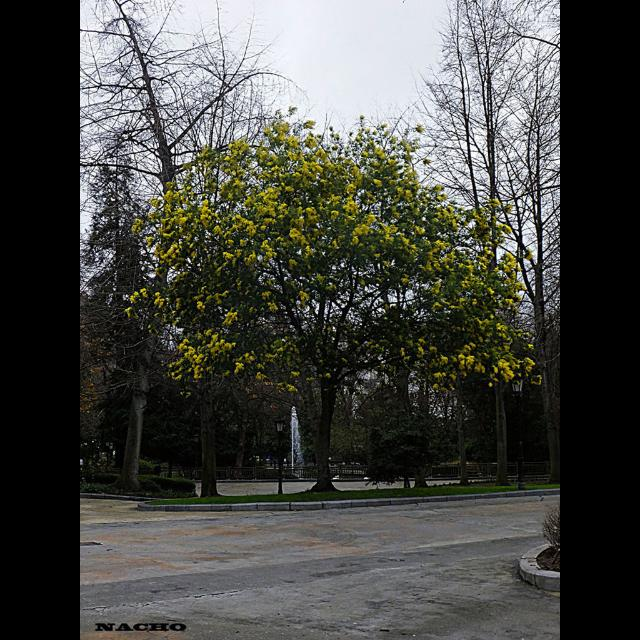Flower: (113, 104, 542, 394), (432, 382, 440, 391)
